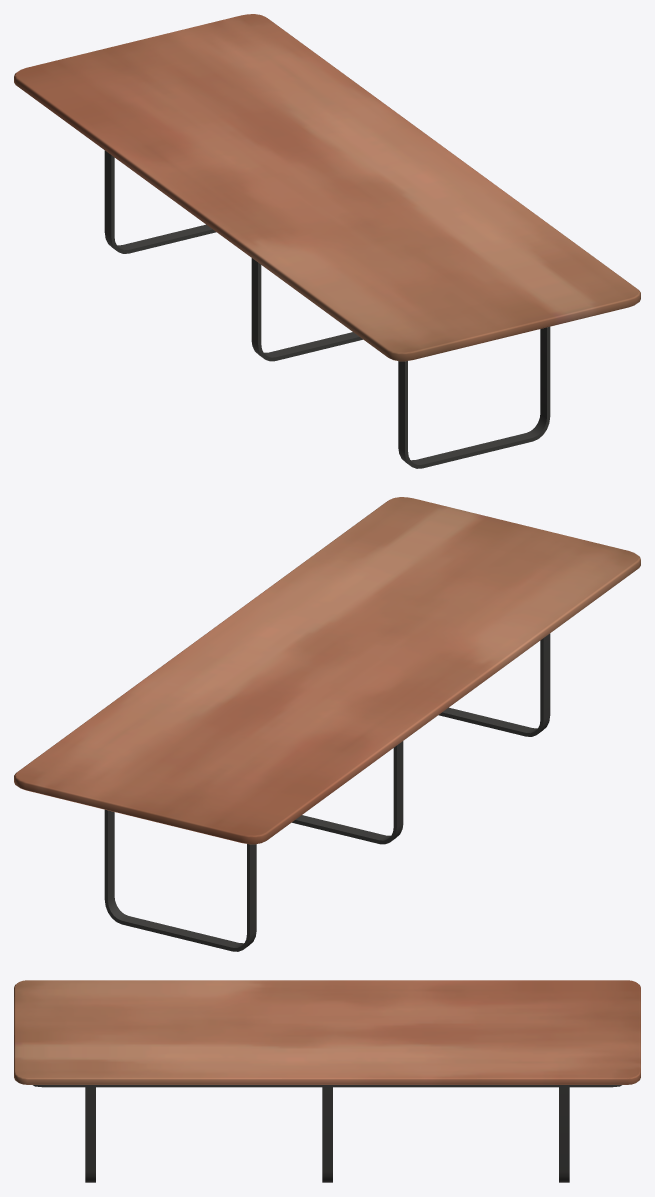
Rendered from Table_Long2.fbx.
3 renders of one model, top to bottom at view 1: azimuth 30°, elevation 25°; view 2: azimuth 150°, elevation 25°; view 3: azimuth 270°, elevation 25°, orthographic. The views are drawn at different scales.
Parts seen in each view (by area): view 1: Table_Long2; view 2: Table_Long2; view 3: Table_Long2.
Part boxes in pixels (bbox=[...]): Table_Long2: bbox=[14, 14, 640, 468]; Table_Long2: bbox=[14, 497, 640, 951]; Table_Long2: bbox=[14, 980, 640, 1182].
Bounding box in the file's own units: 175 × 108 × 468.
